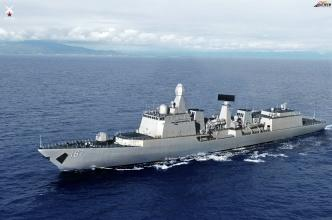warship: (36, 82, 328, 173)
